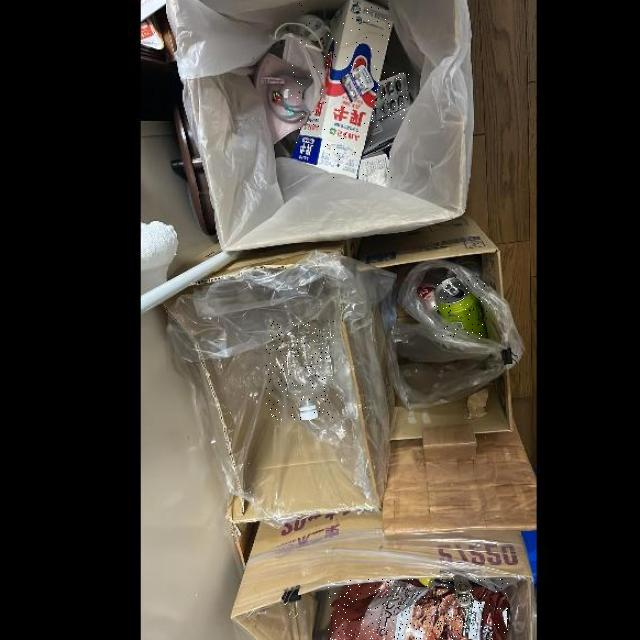metal: (435, 276, 489, 338), (370, 72, 410, 123)
paper: (291, 0, 393, 178)
plastic: (267, 321, 334, 420)
wrapper: (329, 579, 508, 640)
